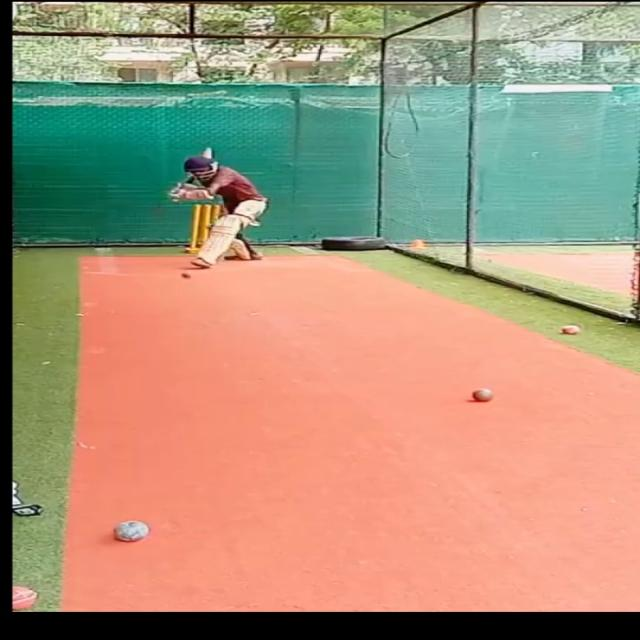ball: (108, 519, 150, 544), (468, 387, 493, 402), (557, 323, 582, 334), (177, 270, 193, 278)
stump: (186, 204, 211, 253)
